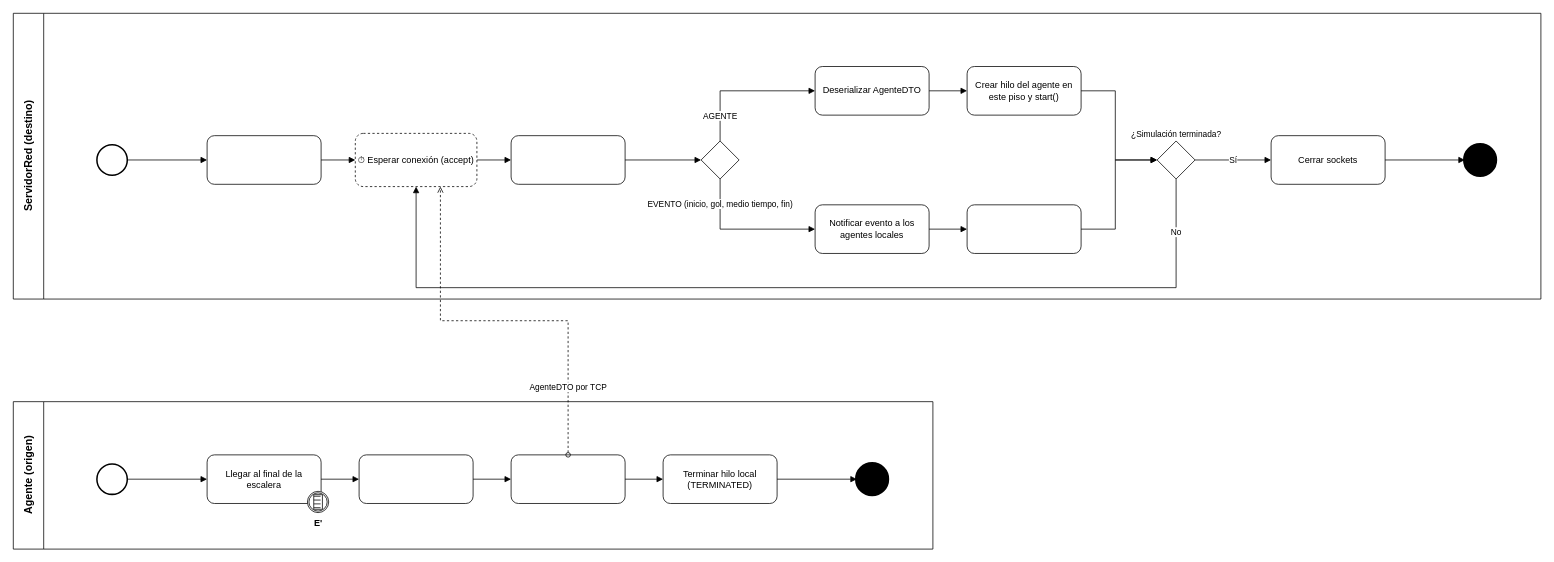
This 1554x562 diagram has some shape labels left out. The shapes that lost their labels are listed below. From the top down, each one's centre as x and y in pixels, then its label:
At point (263, 159): "Abrir ServerSocket (puerto del piso)".
At point (567, 159): "Leer Mensaje (ObjectInputStream)".
At point (719, 159): "¿Tipo de mensaje?".
At point (1023, 228): "Reproducir sonido y actualizar marcador".
At point (415, 479): "Serializar estado en AgenteDTO".
At point (567, 479): "Abrir socket al servidor destino y enviar".
